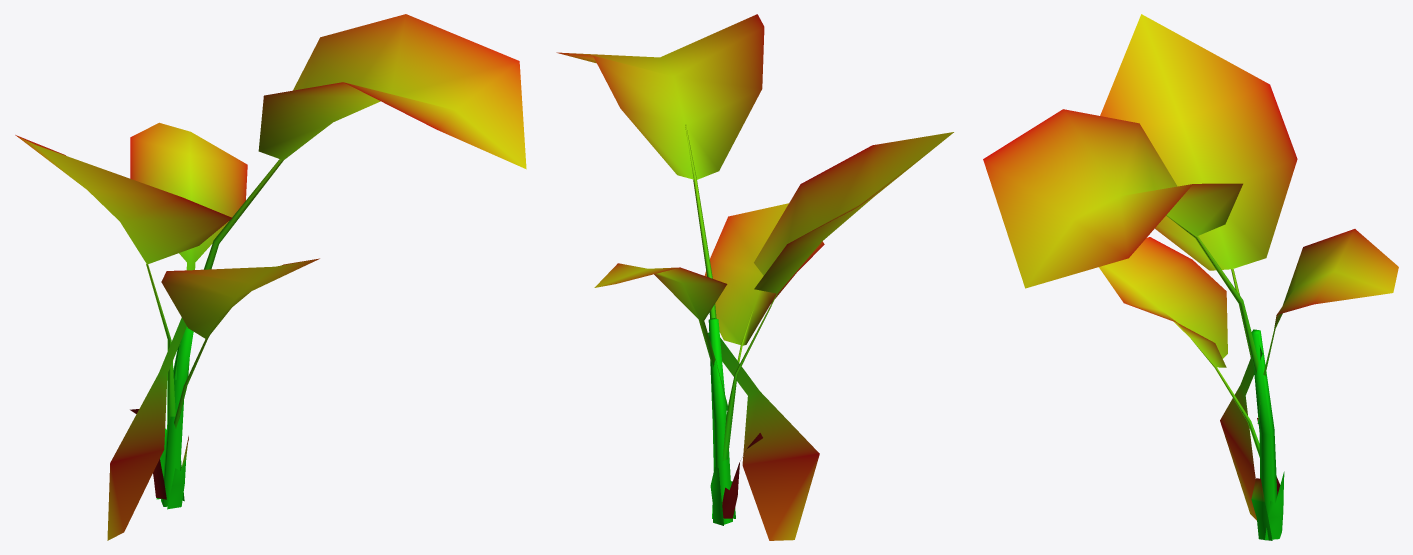
File: Cat Palm_LOD3_Var4_tjejafeia.fbx
3 renders of one model, left to right at view 1: azimuth 30°, elevation 25°; view 2: azimuth 150°, elevation 25°; view 3: azimuth 270°, elevation 25°, orthographic. The views are drawn at different scales.
Parts seen in each view (by area): view 1: _6ca4_Var4_LOD3; view 2: _6ca4_Var4_LOD3; view 3: _6ca4_Var4_LOD3.
Boxes of the visible parts, box(x1,y1,x2,y2) form: _6ca4_Var4_LOD3: box(15, 14, 526, 540); _6ca4_Var4_LOD3: box(556, 14, 953, 540); _6ca4_Var4_LOD3: box(983, 14, 1398, 540).
Size of the model in its own units: 69.18 by 69.28 by 55.75.
